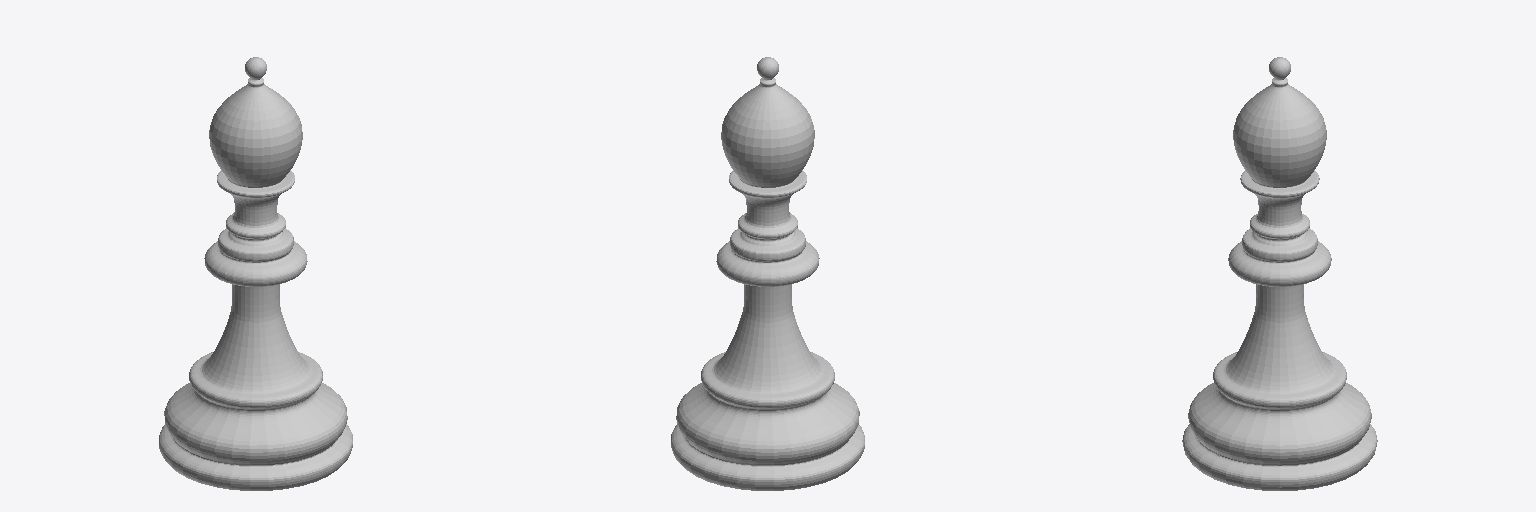
Rendered from Bishop.obj.
3 views of the same model, side by side, from view 1: azimuth 30°, elevation 25°; view 2: azimuth 150°, elevation 25°; view 3: azimuth 270°, elevation 25° (orthographic).
Parts seen in each view (by area): view 1: Cube.002_Cube.003; view 2: Cube.002_Cube.003; view 3: Cube.002_Cube.003.
Boxes of the visible parts, box(x1,y1,x2,y2) form: Cube.002_Cube.003: box(159, 57, 352, 490); Cube.002_Cube.003: box(671, 57, 864, 490); Cube.002_Cube.003: box(1182, 57, 1377, 490).
Size of the model in its own units: 3.77 by 8.43 by 3.77.